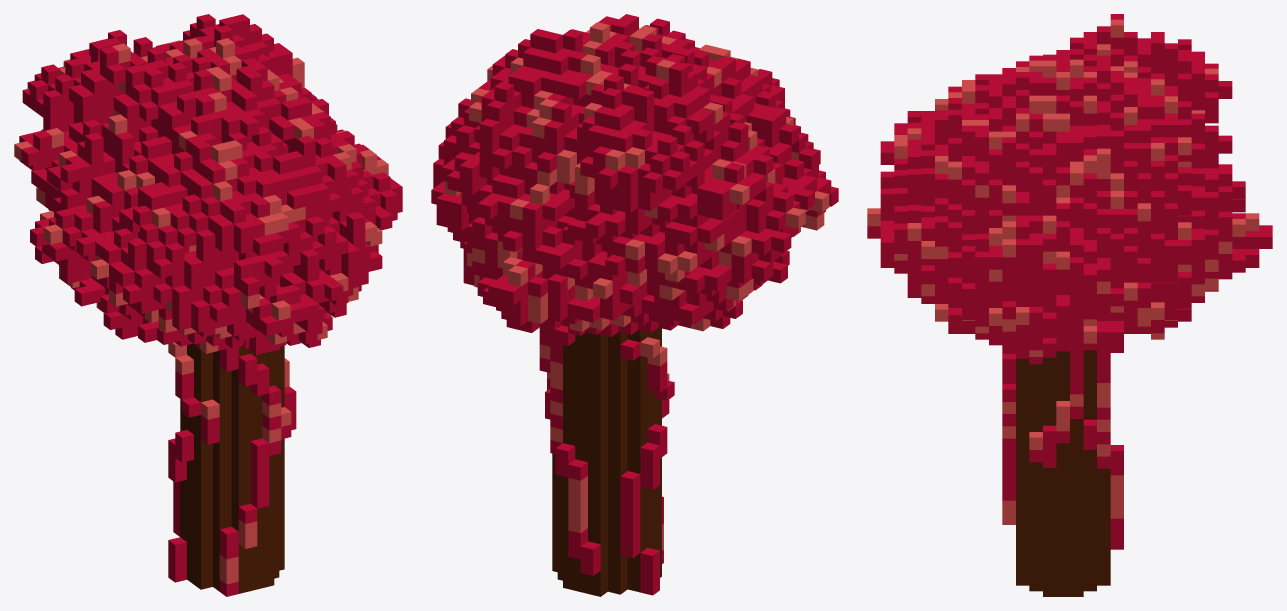
Rendered from Arvore Rosa.obj.
The picture shows the model from 3 angles, left to right: view 1: azimuth 30°, elevation 25°; view 2: azimuth 150°, elevation 25°; view 3: azimuth 270°, elevation 25°; orthographic projection. The views are drawn at different scales.
Size of the model in its own units: 2.7 by 4.2 by 3.
1 material, 1 textured.
